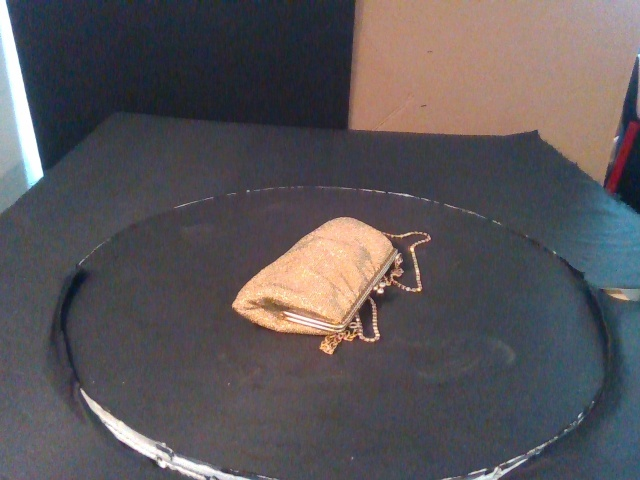bag: (231, 218, 398, 338)
